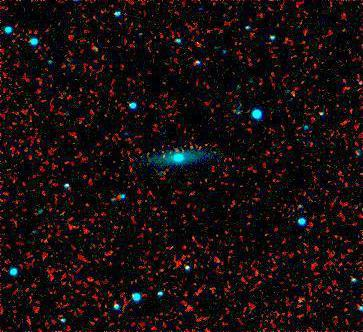star: (284, 291, 314, 321)
